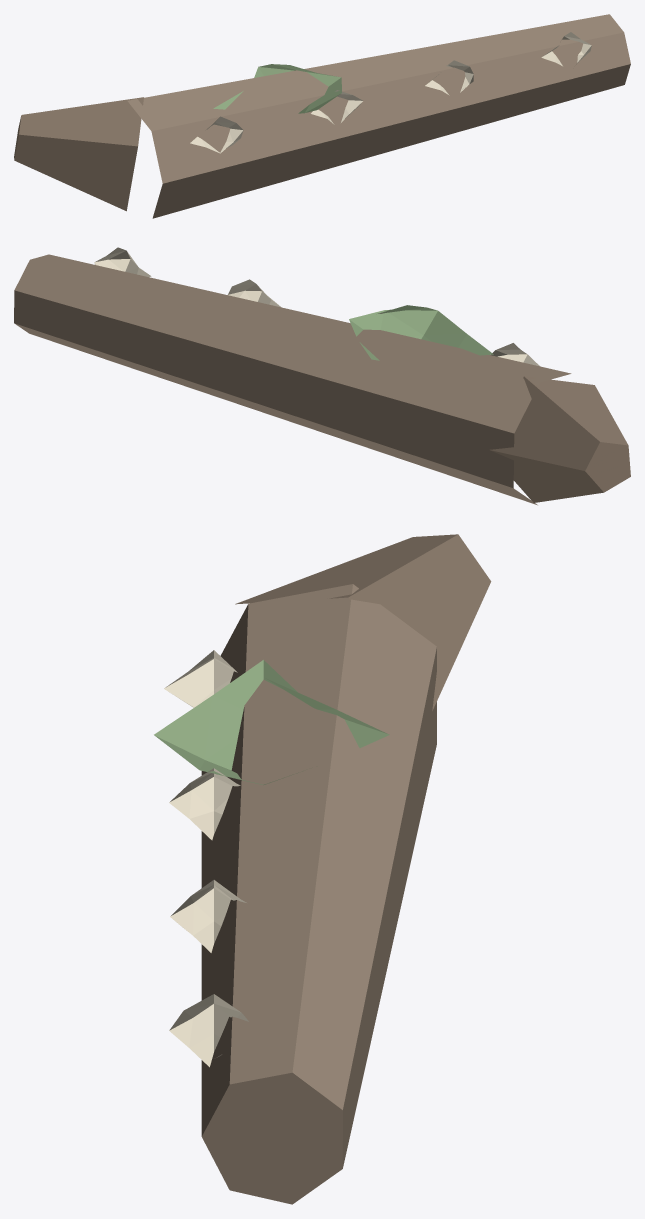
Rendered from log_v14.glb.
3 renders of one model, top to bottom at view 1: azimuth 30°, elevation 25°; view 2: azimuth 150°, elevation 25°; view 3: azimuth 270°, elevation 25°, orthographic. The views are drawn at different scales.
Visible parts, largest first — view 1: lod0; view 2: lod0; view 3: lod0.
Boxes of the visible parts, <box> form: lod0: <box>14,14,630,218</box>; lod0: <box>14,247,630,505</box>; lod0: <box>154,534,491,1204</box>.
Size of what is drawn, in the model's own units: 2.95 by 0.6358 by 0.7635.
